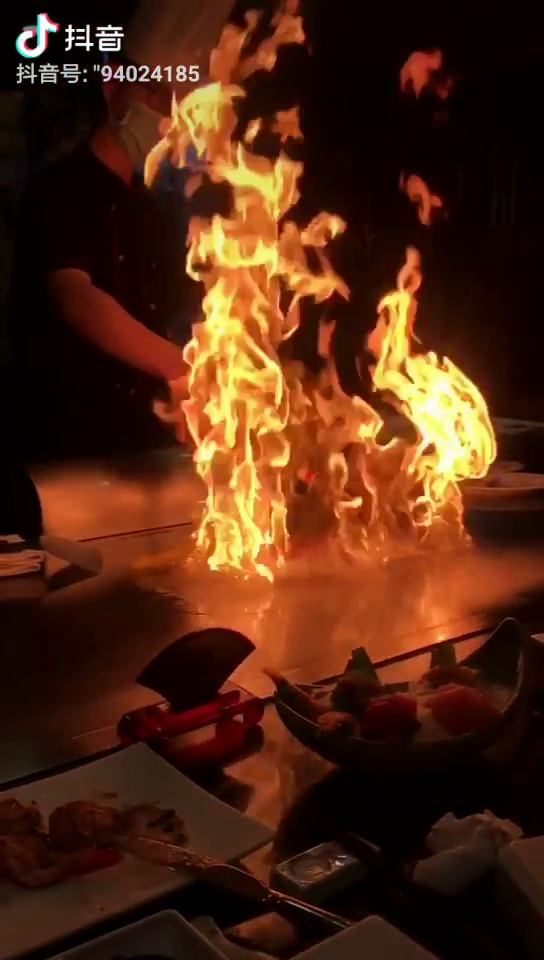fire: (175, 300, 478, 575), (159, 82, 316, 366)
